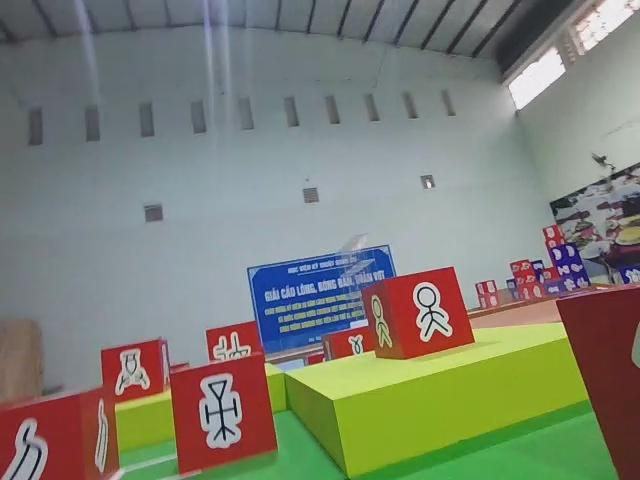R2 Real: (167, 350, 281, 480), (0, 380, 121, 480), (359, 264, 477, 363), (99, 335, 172, 406), (203, 316, 268, 375)
